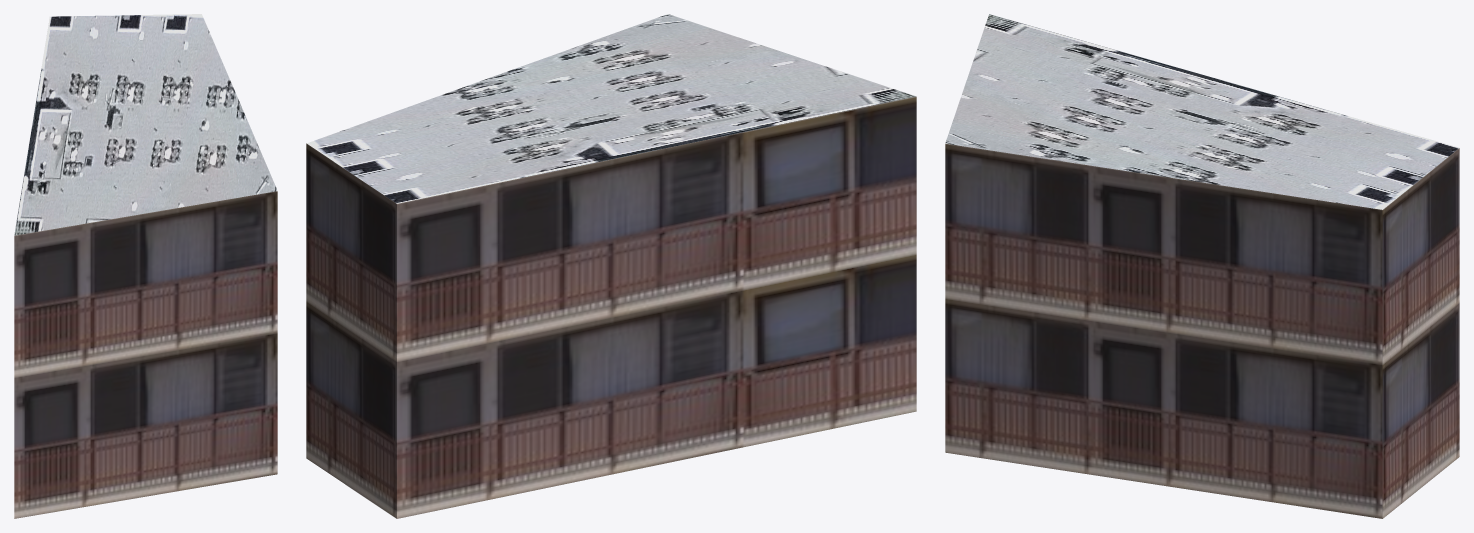
File: ResTex__4521.fbx
3 renders of one model, left to right at view 1: azimuth 30°, elevation 25°; view 2: azimuth 150°, elevation 25°; view 3: azimuth 270°, elevation 25°, orthographic. The views are drawn at different scales.
Visible parts, largest first — view 1: CityEngineMaterial_6_m, CityEngineMaterial_m; view 2: CityEngineMaterial_6_m, CityEngineMaterial_m; view 3: CityEngineMaterial_6_m, CityEngineMaterial_m.
Part boxes in pixels (x1,y1,x2,y2): CityEngineMaterial_6_m: (14, 191, 277, 518); CityEngineMaterial_m: (14, 14, 277, 235); CityEngineMaterial_6_m: (306, 96, 916, 518); CityEngineMaterial_m: (307, 14, 916, 203); CityEngineMaterial_6_m: (945, 143, 1459, 518); CityEngineMaterial_m: (945, 14, 1459, 209).
Bounding box in the file's own units: 8.16 × 6 × 9.05.
Materials: 2 (2 with a texture image).
